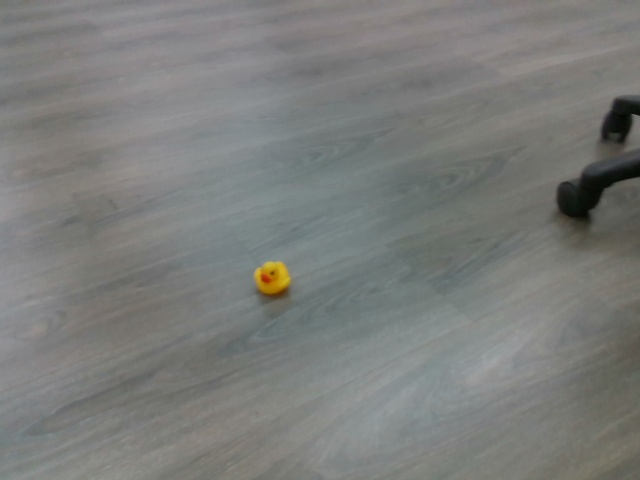duck: (251, 258, 294, 296)
